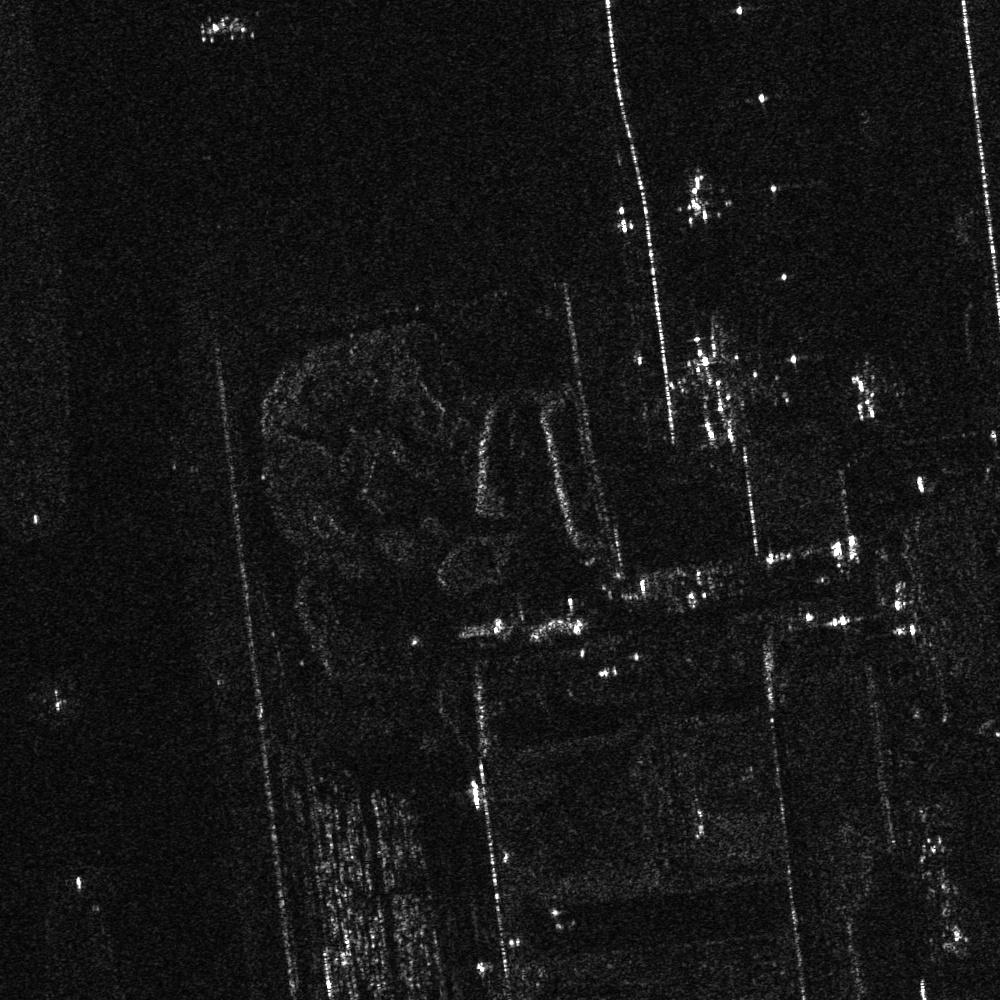A220: (842, 374, 886, 424)
other: (668, 329, 761, 440), (668, 172, 731, 229)
